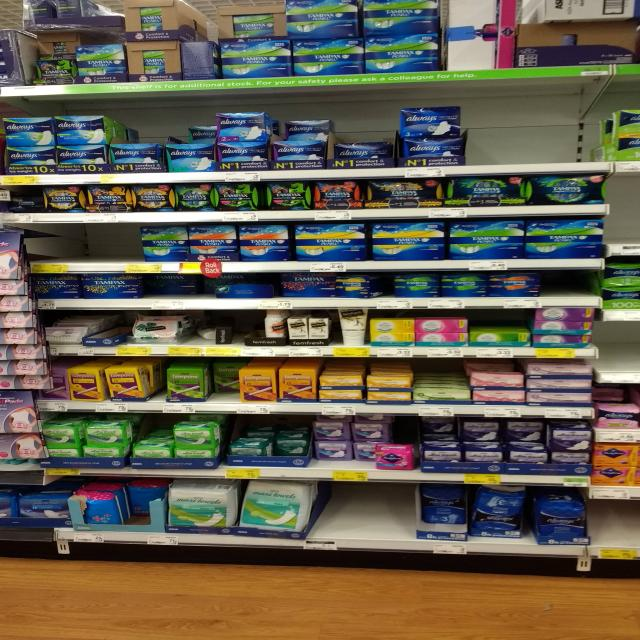void: (472, 108, 592, 161), (327, 482, 411, 534), (31, 224, 143, 260), (591, 501, 640, 544), (610, 174, 640, 241), (607, 322, 640, 371), (544, 273, 594, 296)
